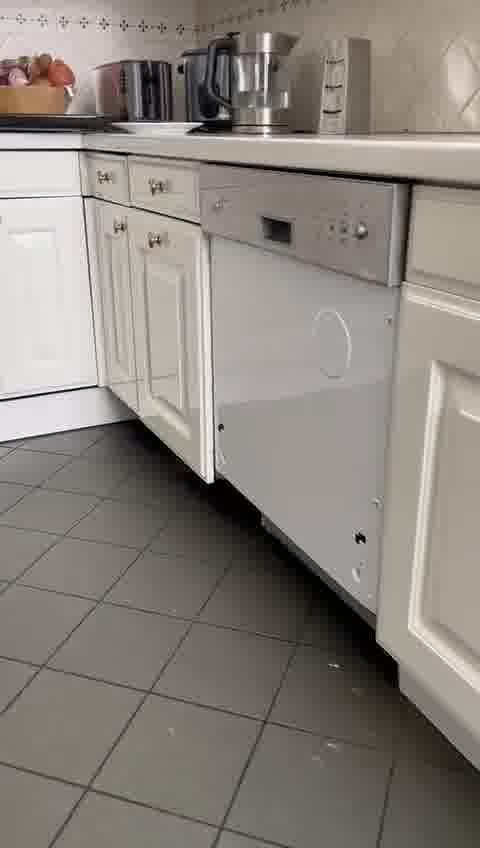cabinet_door: (213, 233, 392, 541), (380, 333, 479, 716), (1, 201, 93, 390), (206, 176, 405, 262), (137, 216, 208, 446), (414, 195, 480, 301), (92, 210, 130, 382), (0, 150, 82, 195), (131, 165, 200, 212), (81, 155, 129, 200)
handle: (255, 205, 298, 243), (143, 228, 165, 256), (110, 216, 126, 242), (211, 193, 226, 217), (149, 177, 161, 202), (97, 170, 113, 188)
